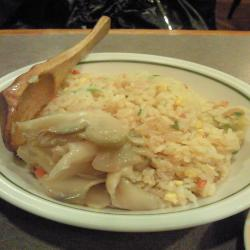rice: (60, 75, 235, 168)
